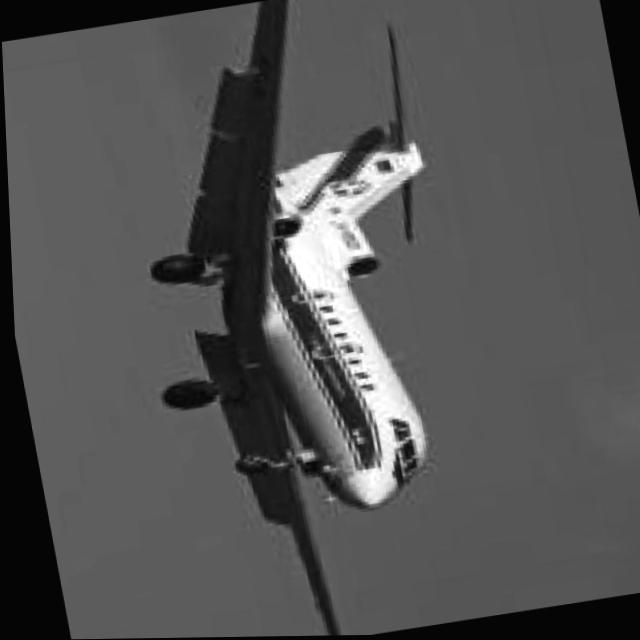aeroplane: (104, 0, 520, 639)
